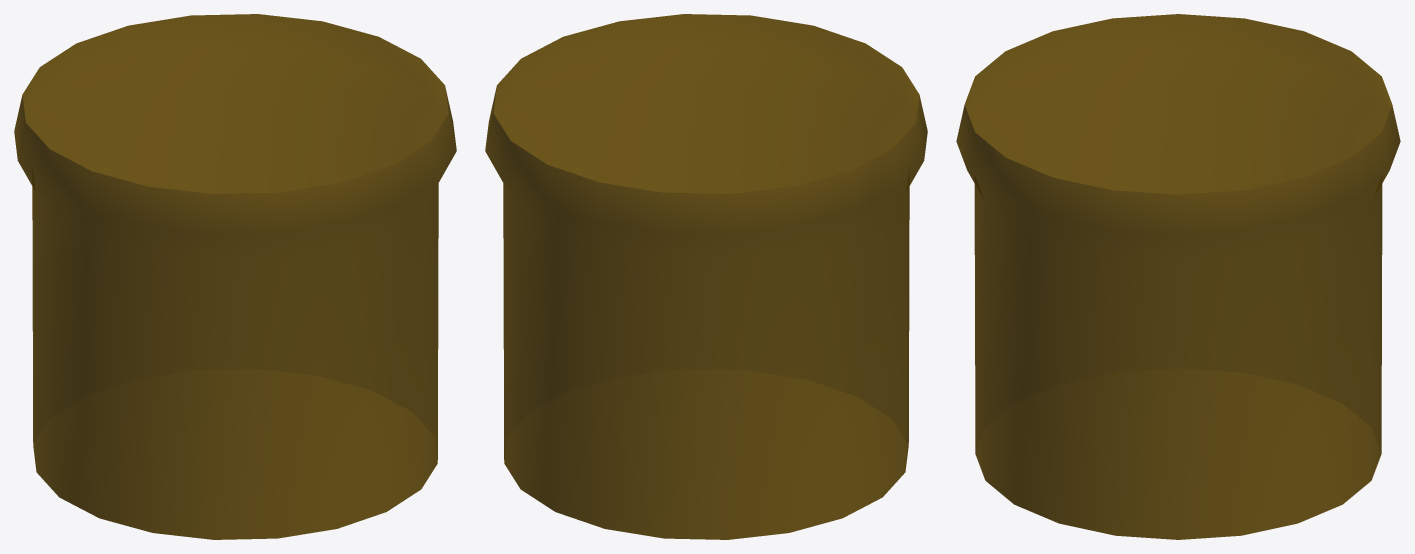
File: vnutr_kiski.fbx
3 renders of one model, left to right at view 1: azimuth 30°, elevation 25°; view 2: azimuth 150°, elevation 25°; view 3: azimuth 270°, elevation 25°, orthographic.
Visible parts, largest first — view 1: vnutr_kiski; view 2: vnutr_kiski; view 3: vnutr_kiski.
Part boxes in pixels (left/top/right/bottom): vnutr_kiski: left=14, top=14, right=456, bottom=539; vnutr_kiski: left=485, top=14, right=927, bottom=539; vnutr_kiski: left=956, top=14, right=1400, bottom=539.
Bounding box in the file's own units: 3.34 × 2.9 × 3.34.
